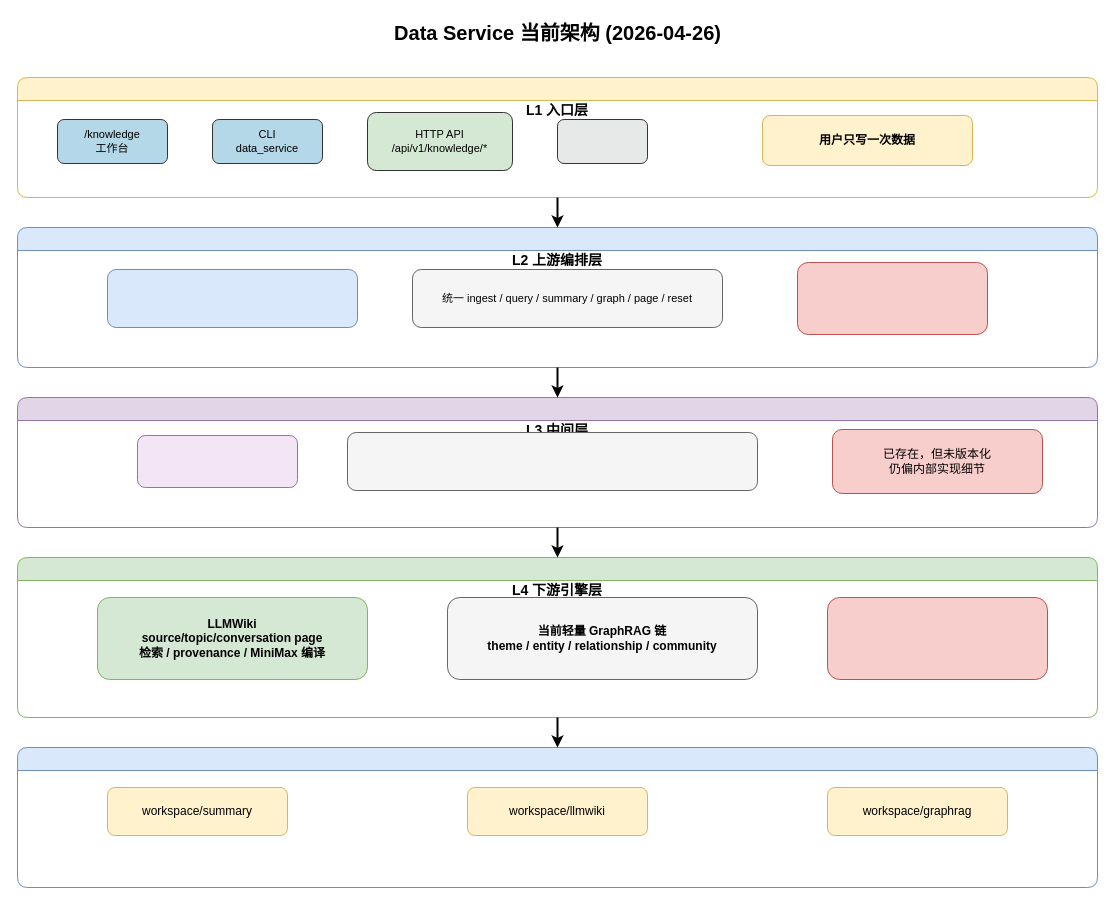
Some shapes in this 1115 by 905 pixel diagram are drawn without their labels. The box of each missing label's shape, as (x1, y1, x2, y2) in pixels:
backend/app/graphrag 独立代码库仍在仓库中并存: (826, 596, 1048, 680)
backend/data_service: (106, 268, 358, 328)
distill: (136, 434, 298, 488)
L5 产物层: (16, 746, 1098, 888)
MCP stdio: (556, 118, 648, 164)
source profile / weight / density / title flags / entity-theme 候选: (346, 432, 758, 490)
当前仍承载部分 graph 构建逻辑: (796, 262, 988, 334)
